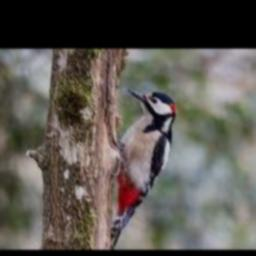Woodpecker: (110, 88, 176, 250)
